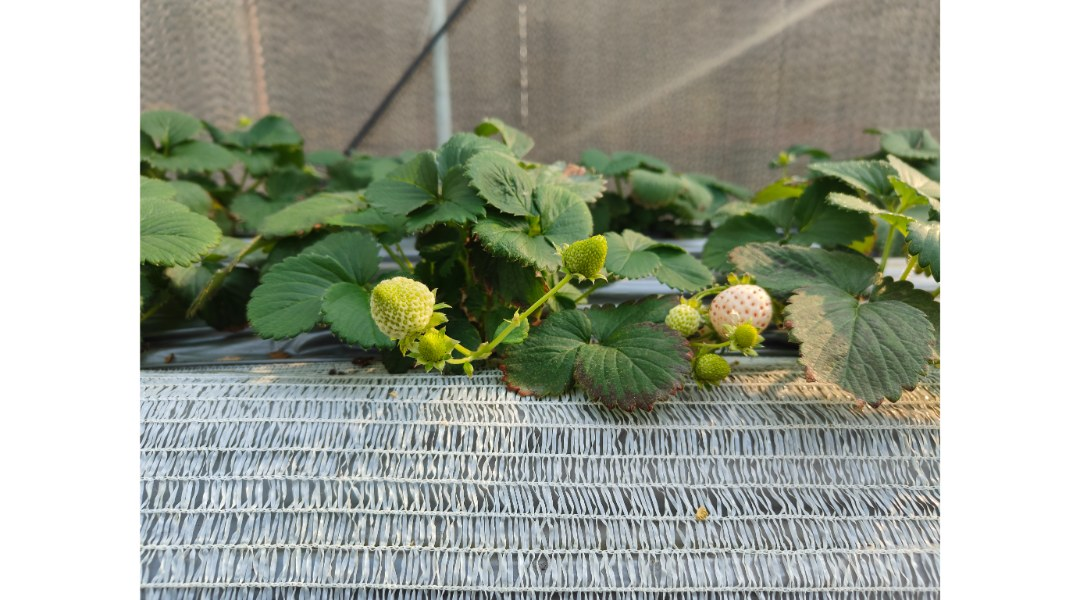berry: (703, 266, 782, 350), (366, 261, 435, 344), (561, 220, 613, 288), (654, 293, 699, 341), (724, 314, 768, 363), (688, 350, 736, 388)
strain: (484, 276, 567, 364)
